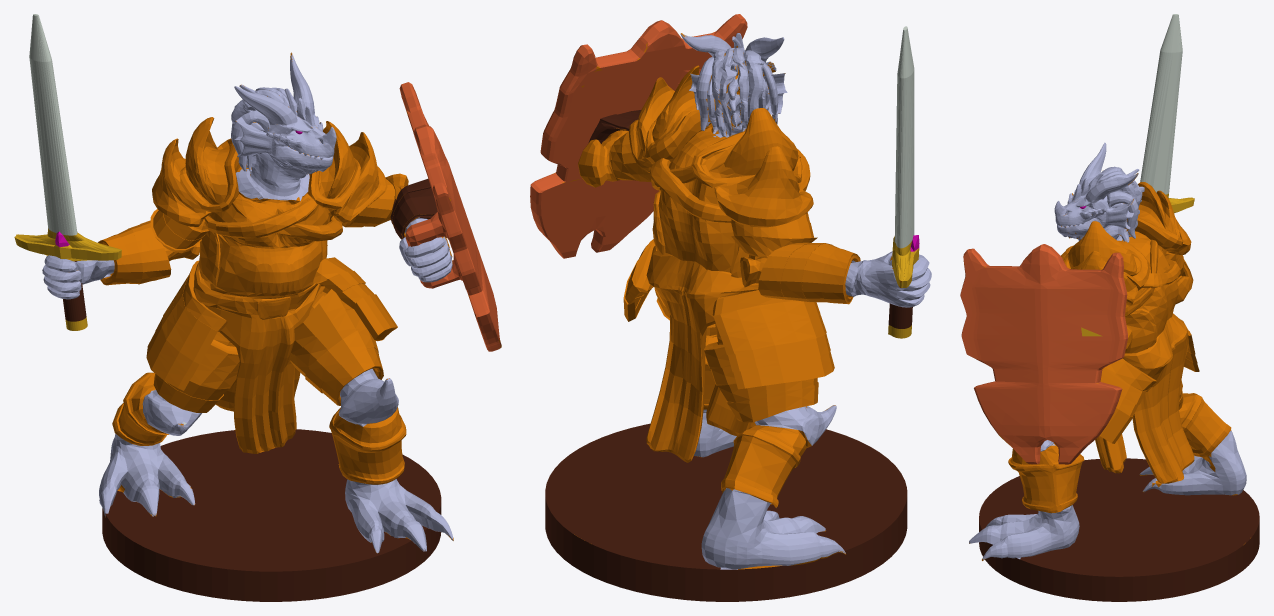
Rendered from Jeff2.fbx.
3 views of the same model, side by side, from view 1: azimuth 30°, elevation 25°; view 2: azimuth 150°, elevation 25°; view 3: azimuth 270°, elevation 25° (orthographic). The views are drawn at different scales.
Parts seen in each view (by area): view 1: Dragonborn Paladin with a Belly; view 2: Dragonborn Paladin with a Belly; view 3: Dragonborn Paladin with a Belly.
Part boxes in pixels (<box>): Dragonborn Paladin with a Belly: <box>14,14,501,601</box>; Dragonborn Paladin with a Belly: <box>530,14,931,601</box>; Dragonborn Paladin with a Belly: <box>960,14,1259,601</box>.
Size of the model in its own units: 3480 by 4440 by 2696.
